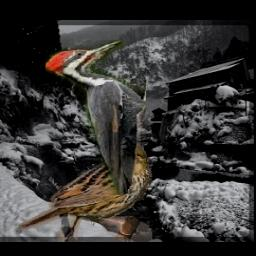Sparrow: (17, 141, 151, 242)
Woodpecker: (44, 41, 145, 196)
